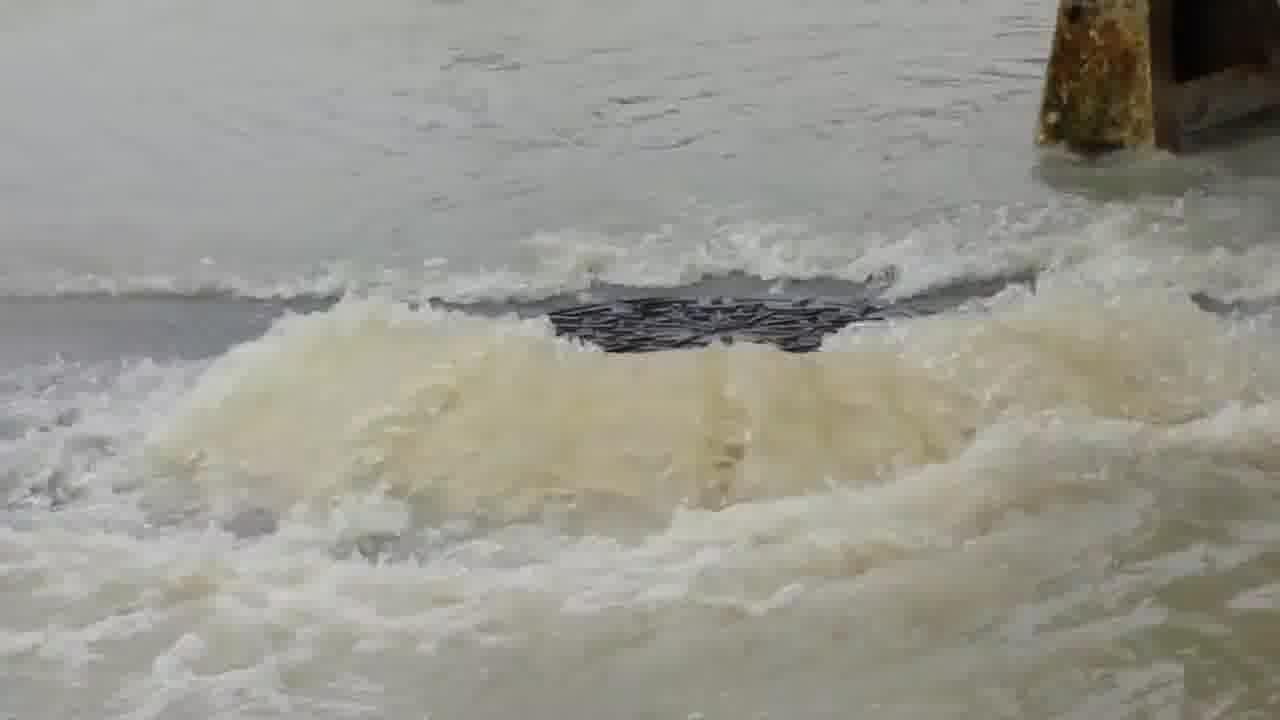drainage_overflow: (136, 229, 1155, 582)
